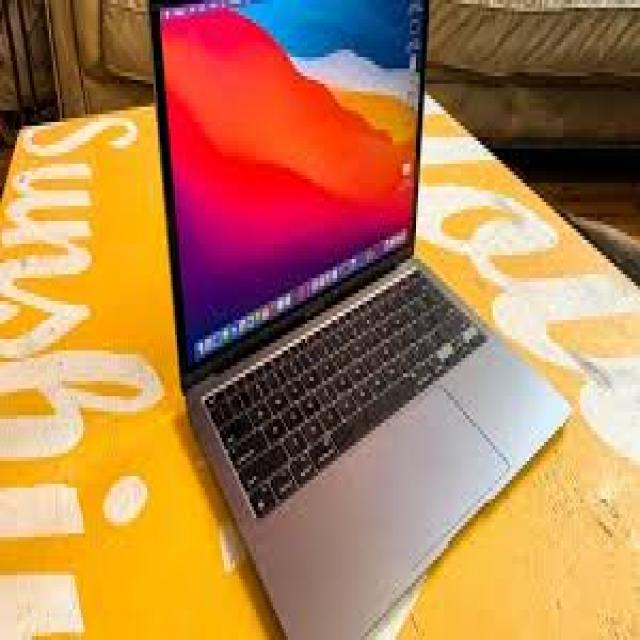others: (141, 4, 591, 632)
